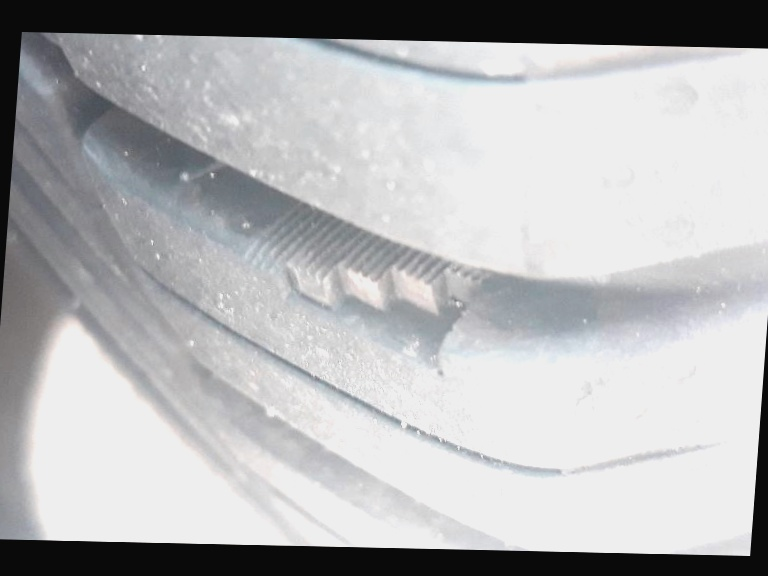temoin:80: (220, 190, 518, 388)
